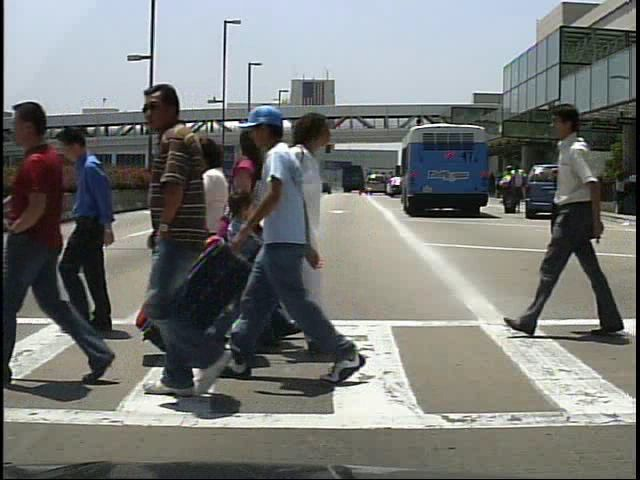person: (132, 84, 258, 420), (249, 105, 353, 387), (221, 112, 337, 363), (4, 92, 94, 391), (529, 98, 611, 341), (44, 122, 132, 341), (226, 122, 285, 361), (144, 129, 217, 322), (179, 134, 249, 328), (222, 184, 263, 335), (582, 164, 602, 218), (498, 166, 516, 219), (513, 165, 530, 215)
